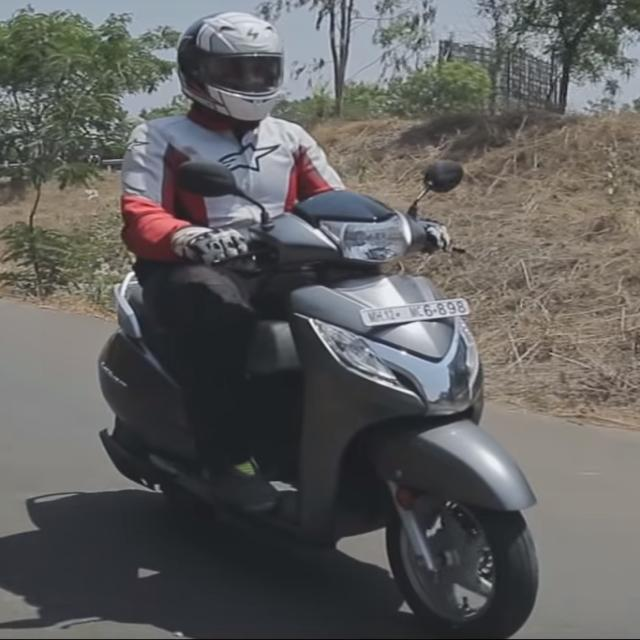helmet: (167, 0, 311, 142)
